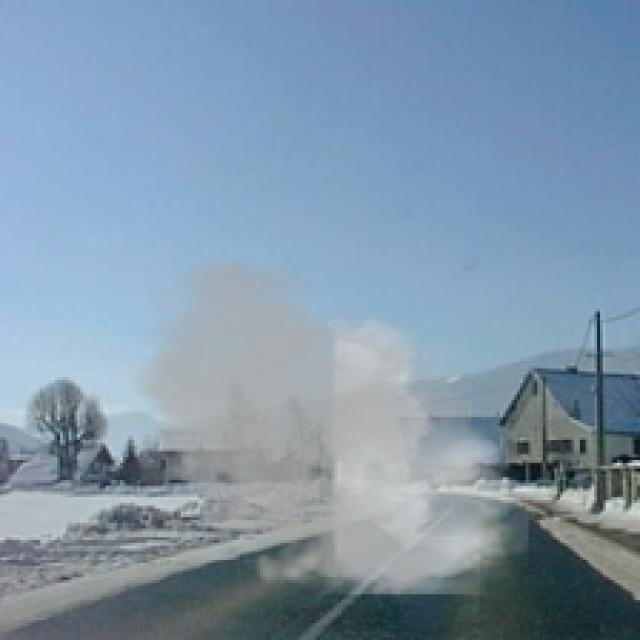Smoke: (117, 252, 529, 608)
